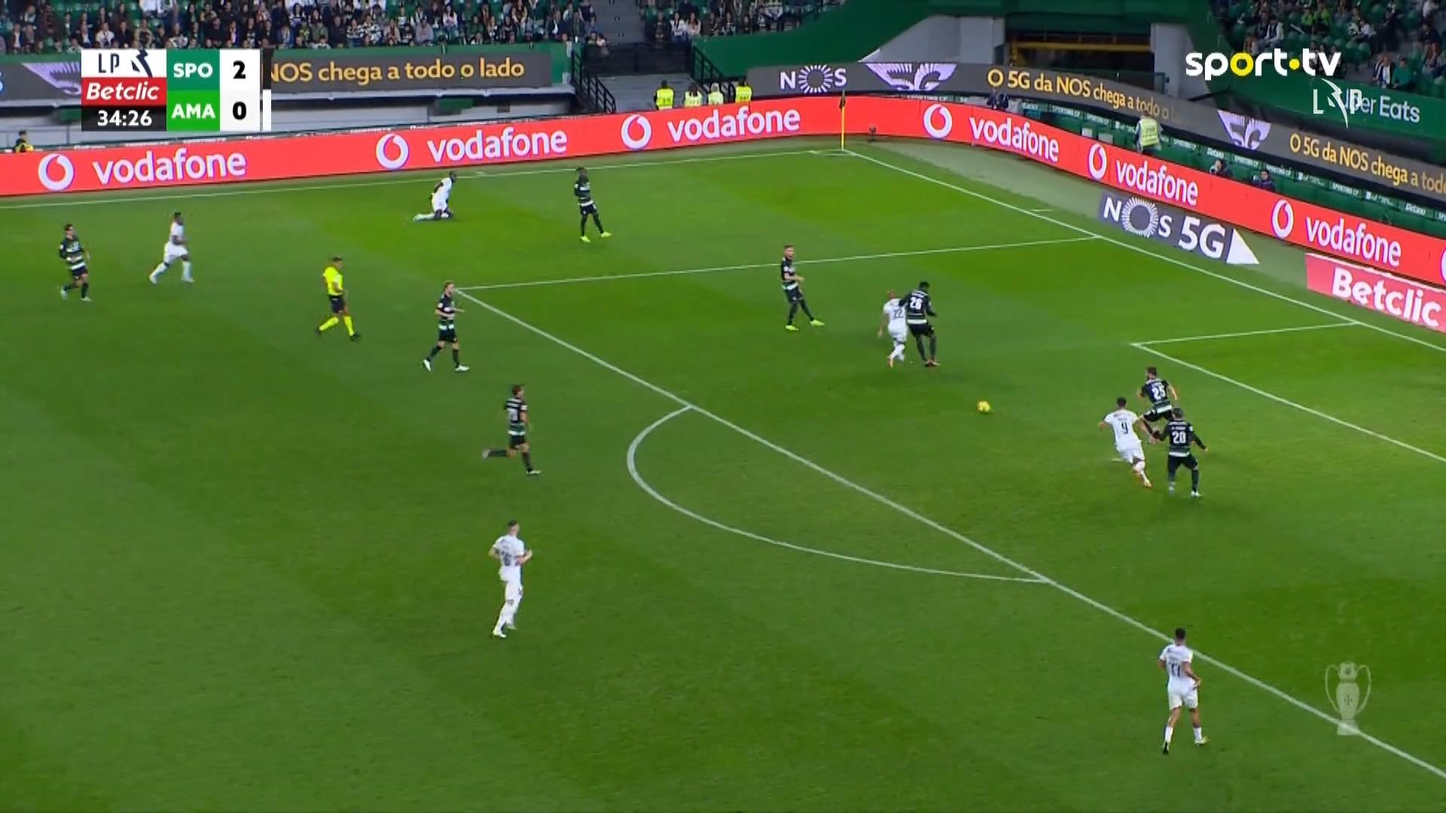ball: (977, 400, 990, 413)
player: (1157, 626, 1209, 755), (480, 383, 541, 476), (1097, 396, 1155, 489), (487, 519, 532, 638), (1151, 406, 1208, 497), (421, 280, 470, 373), (779, 244, 825, 331), (899, 280, 940, 367), (147, 210, 194, 284), (572, 166, 612, 242), (1136, 365, 1178, 437), (57, 222, 93, 301), (875, 288, 908, 368), (413, 169, 456, 221)
referee: (314, 254, 361, 342)
